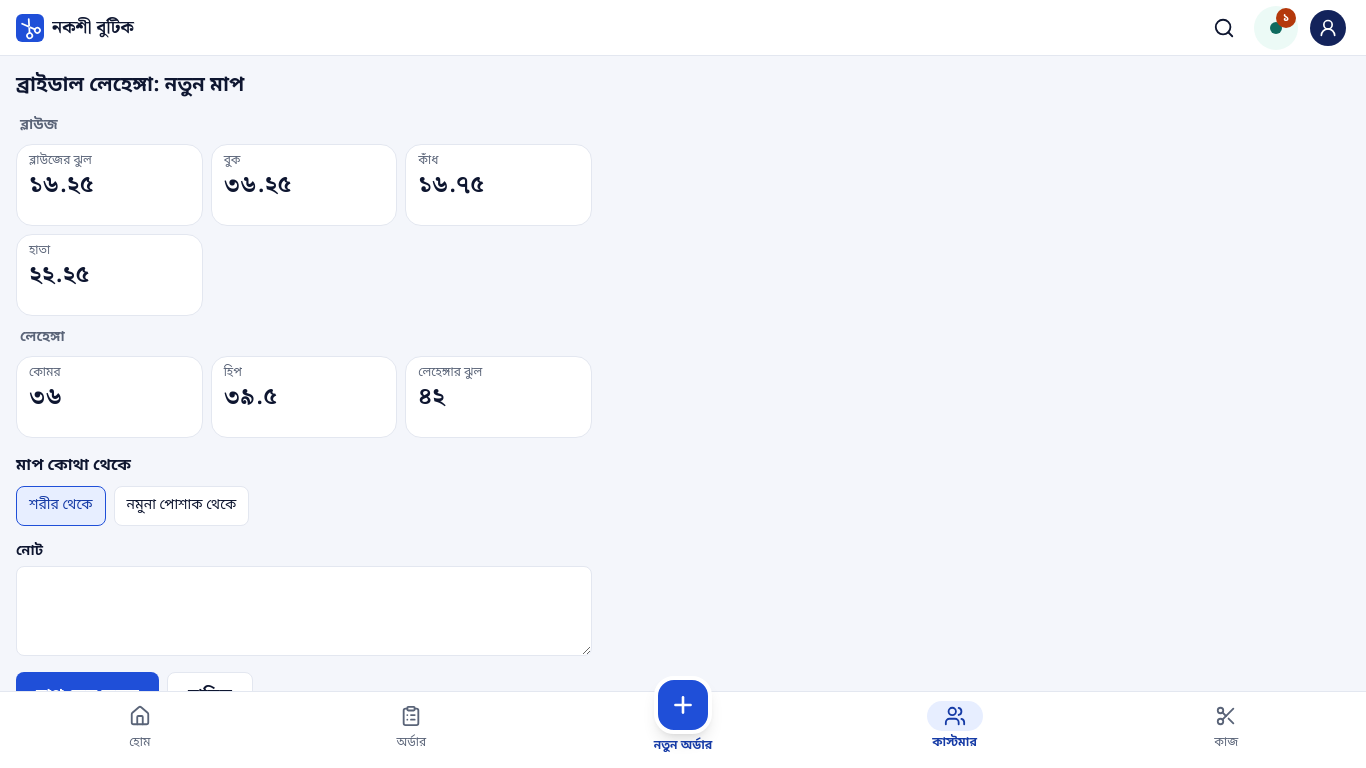
Test: Measurement form on a phone › uses the in-app keypad instead of the phone keyboard
Click the field labelled "ব্লাউজের ঝুল". click: (109, 185)
box: [29,169,190,201]
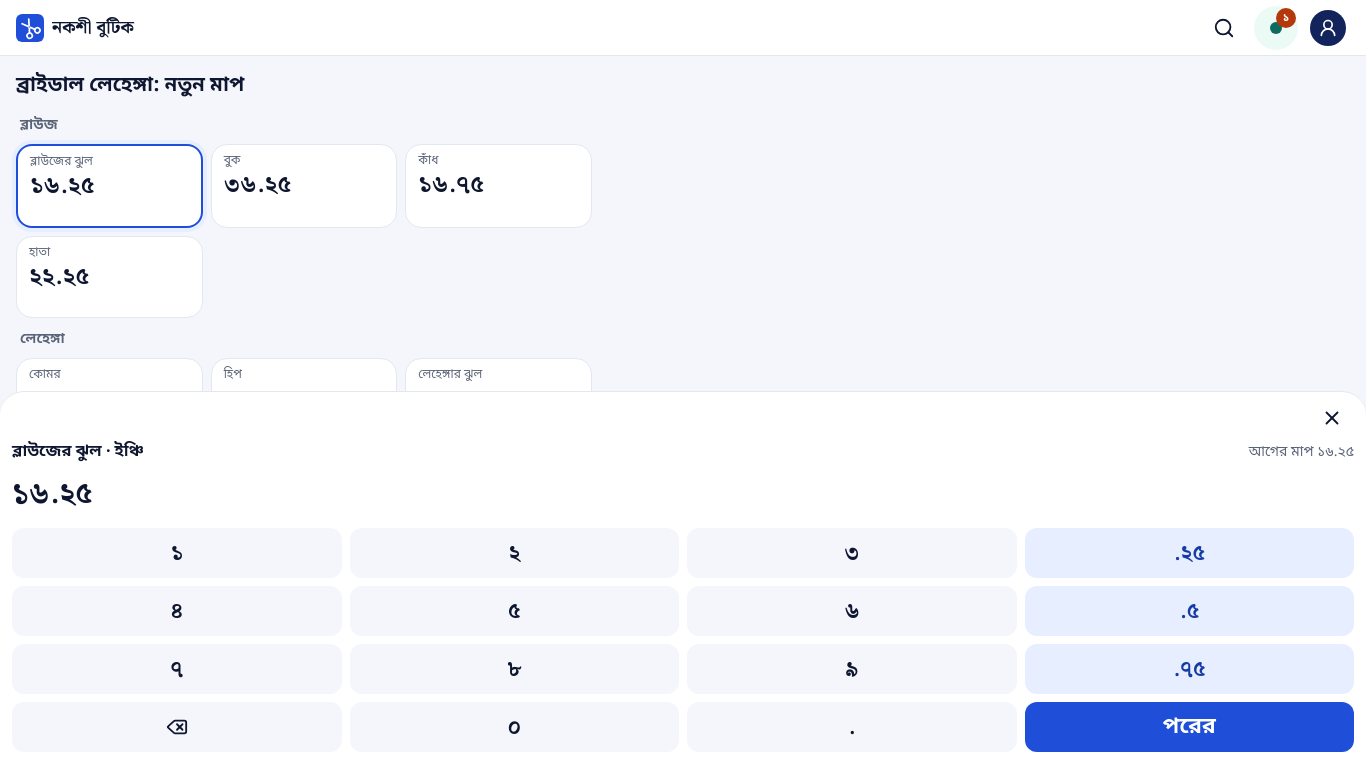
Result: the button with aria-label "পরের মাপ" is shown at [1024,702,1354,752]
